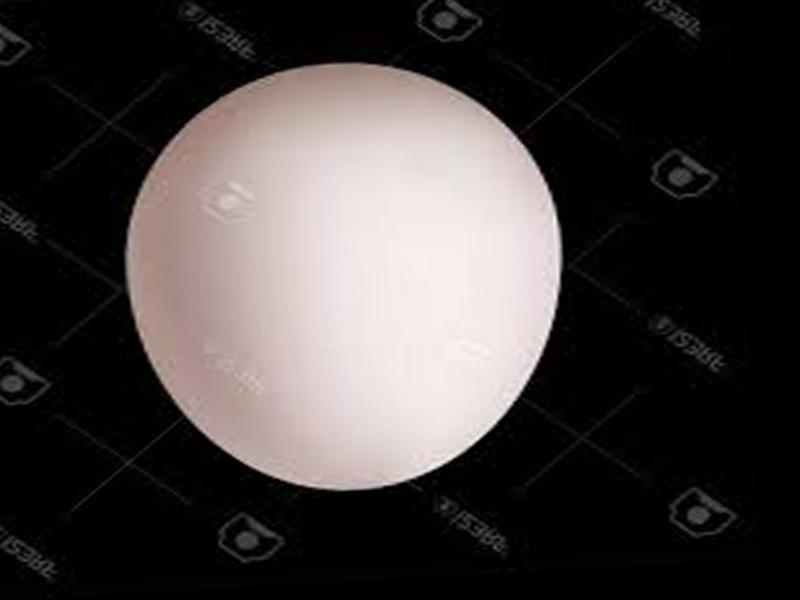Eggs: (122, 54, 571, 498)
